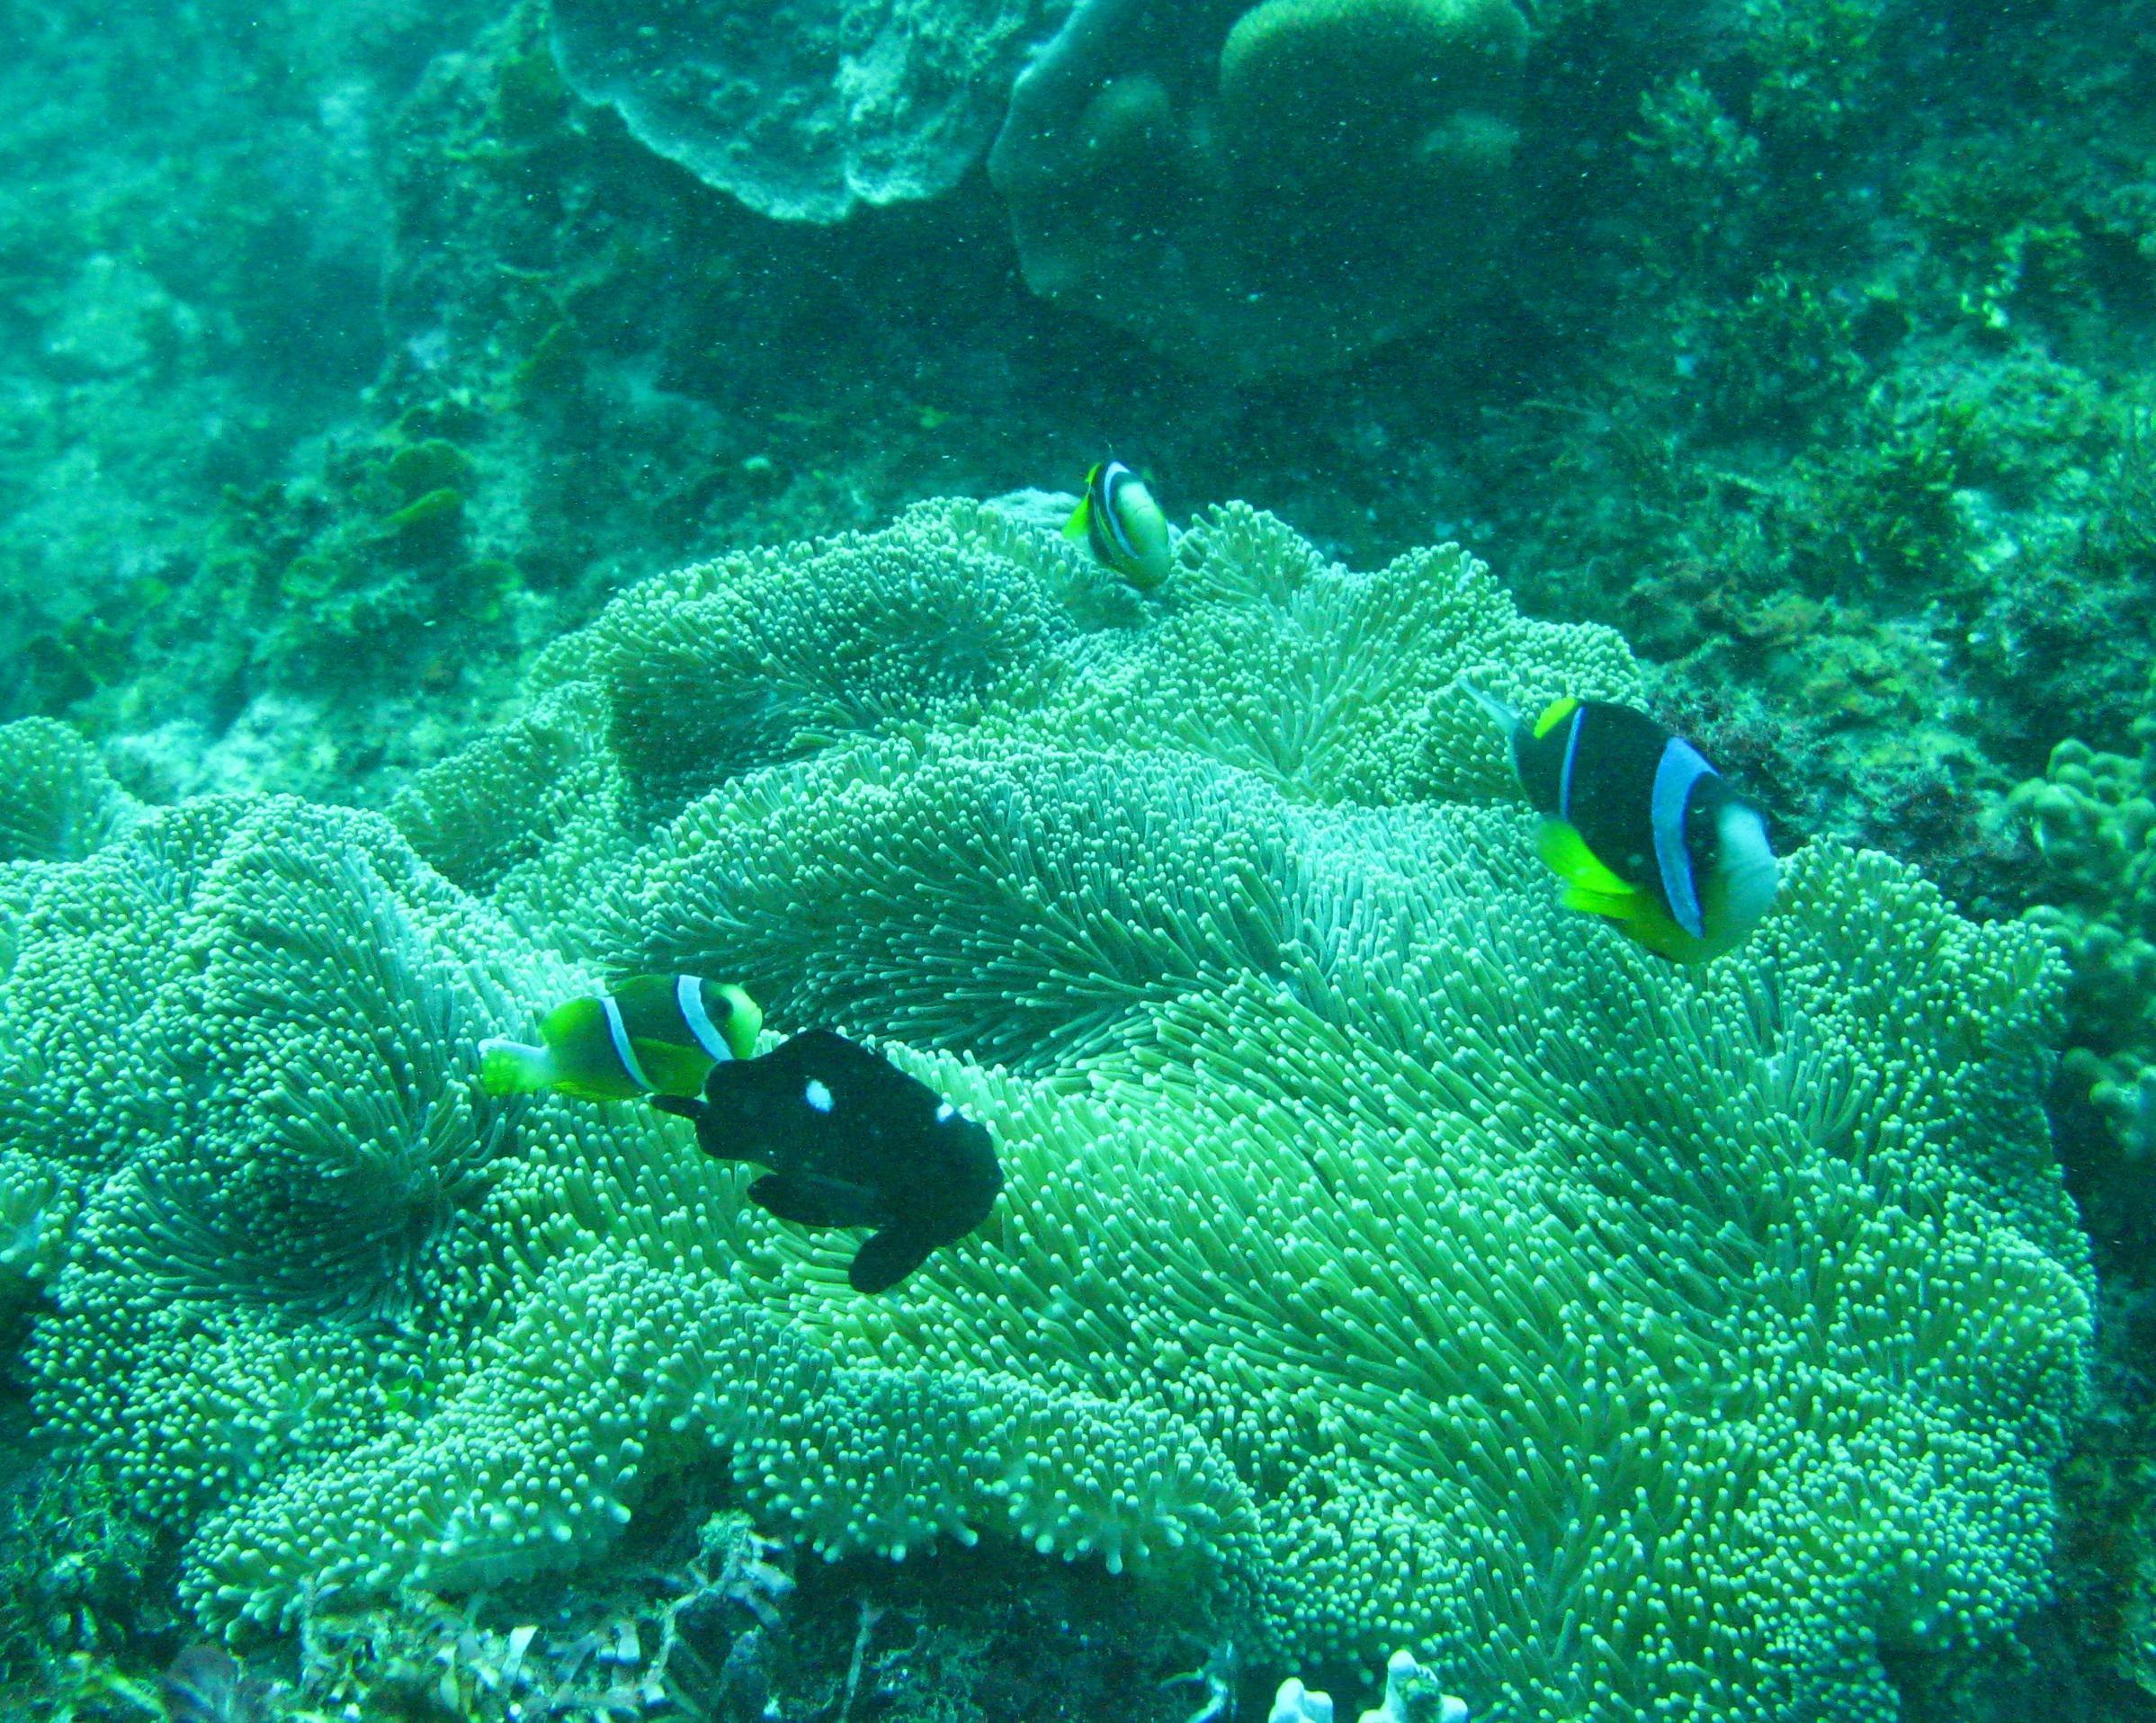Dascyllus trimaculatus: (668, 1016, 1059, 1327)
